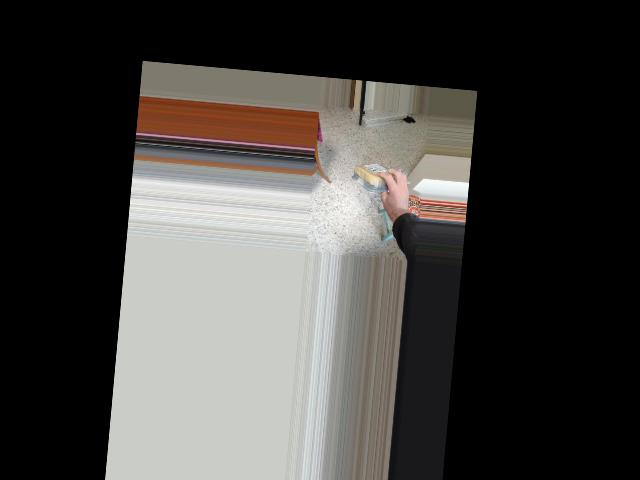cheese: (349, 158, 404, 195)
